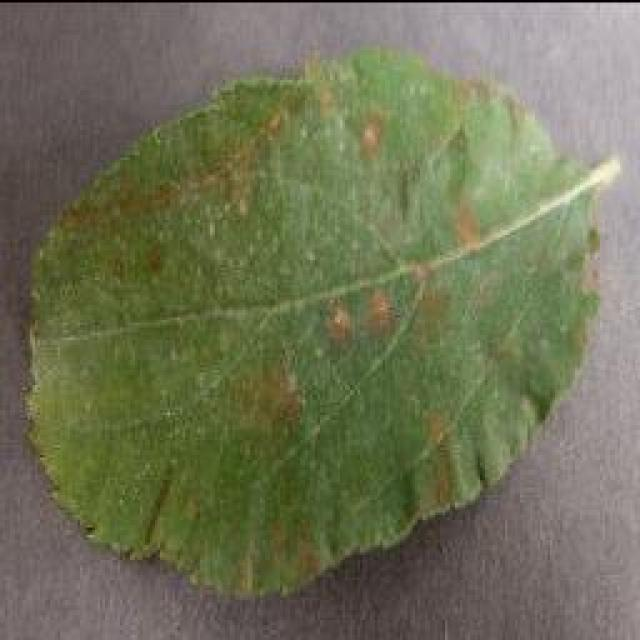apple cedar apple rust: (18, 42, 612, 600)
